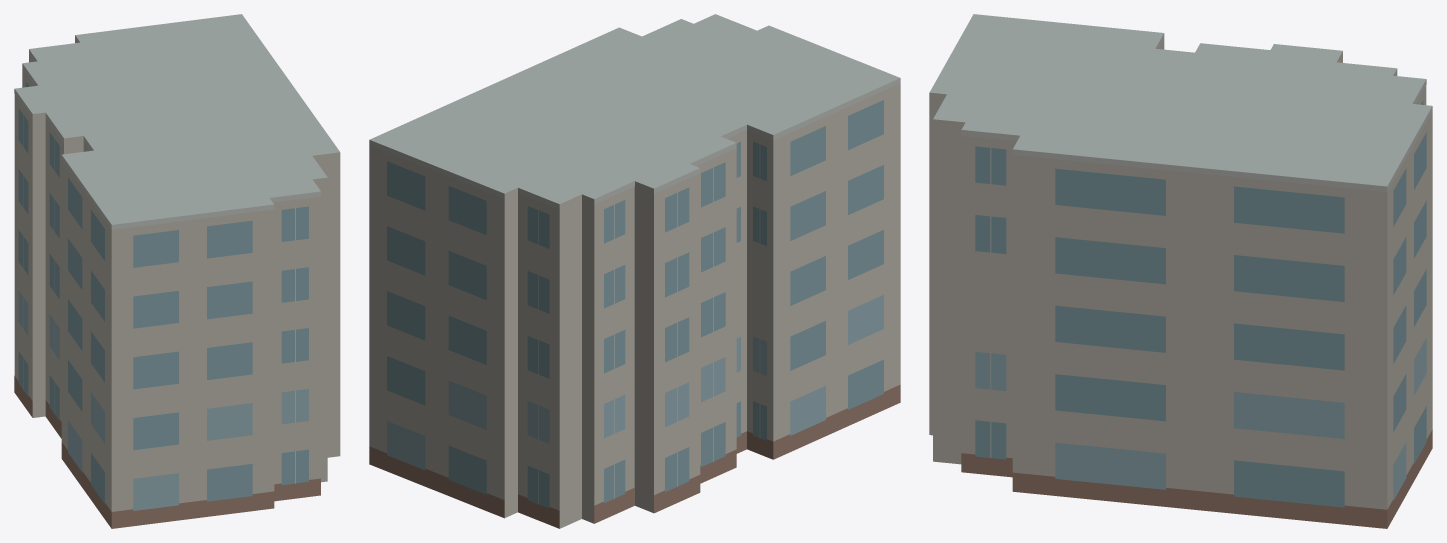
Rendered from survey-upis-33022371.glb.
3 renders of one model, left to right at view 1: azimuth 30°, elevation 25°; view 2: azimuth 150°, elevation 25°; view 3: azimuth 270°, elevation 25°, orthographic. The views are drawn at different scales.
Visible parts, largest first — view 1: survey-upis-33022371.tmp; view 2: survey-upis-33022371.tmp; view 3: survey-upis-33022371.tmp.
Part boxes in pixels (x1,y1,x2,y2): survey-upis-33022371.tmp: [14, 14, 340, 528]; survey-upis-33022371.tmp: [369, 14, 900, 528]; survey-upis-33022371.tmp: [929, 14, 1432, 528].
Bounding box in the file's own units: 15.91 × 14.72 × 19.61.
